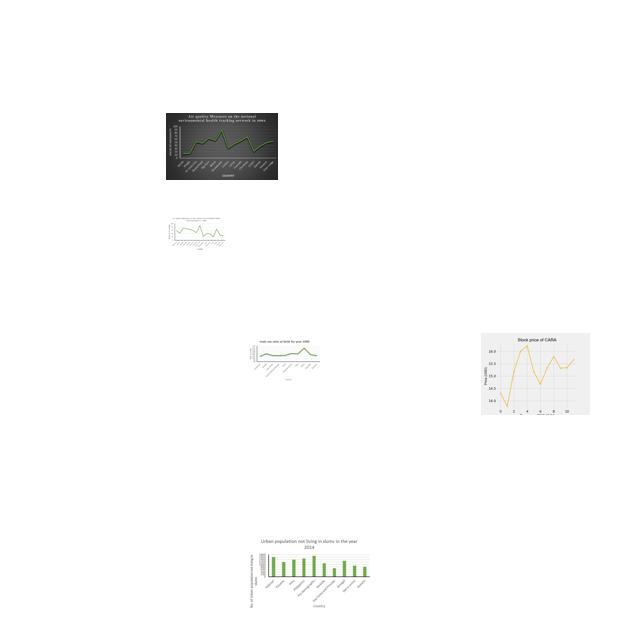Graph: (247, 537, 371, 610), (481, 333, 590, 415), (166, 113, 278, 180), (247, 338, 322, 383), (167, 216, 226, 251)
